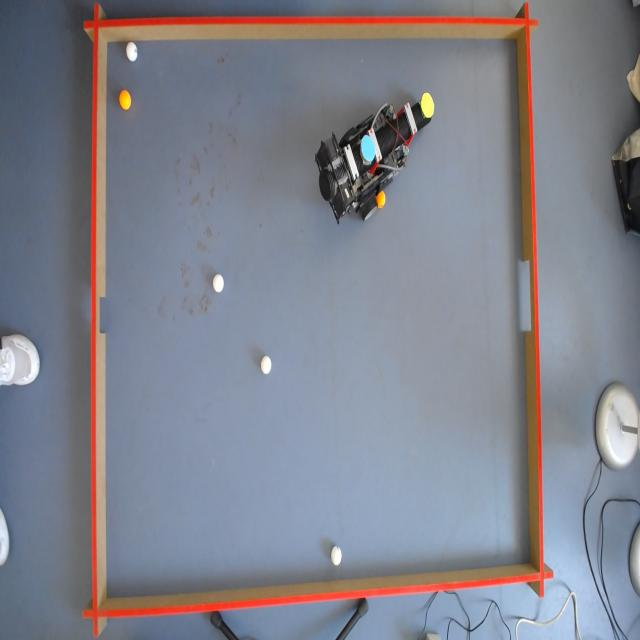orange: (120, 90, 133, 110), (375, 190, 386, 210)
robot: (316, 89, 434, 222)
robot-front: (420, 92, 436, 120)
robot-rear: (358, 135, 376, 164)
white: (332, 546, 346, 567), (212, 272, 224, 294), (124, 44, 138, 62), (261, 357, 273, 376)
